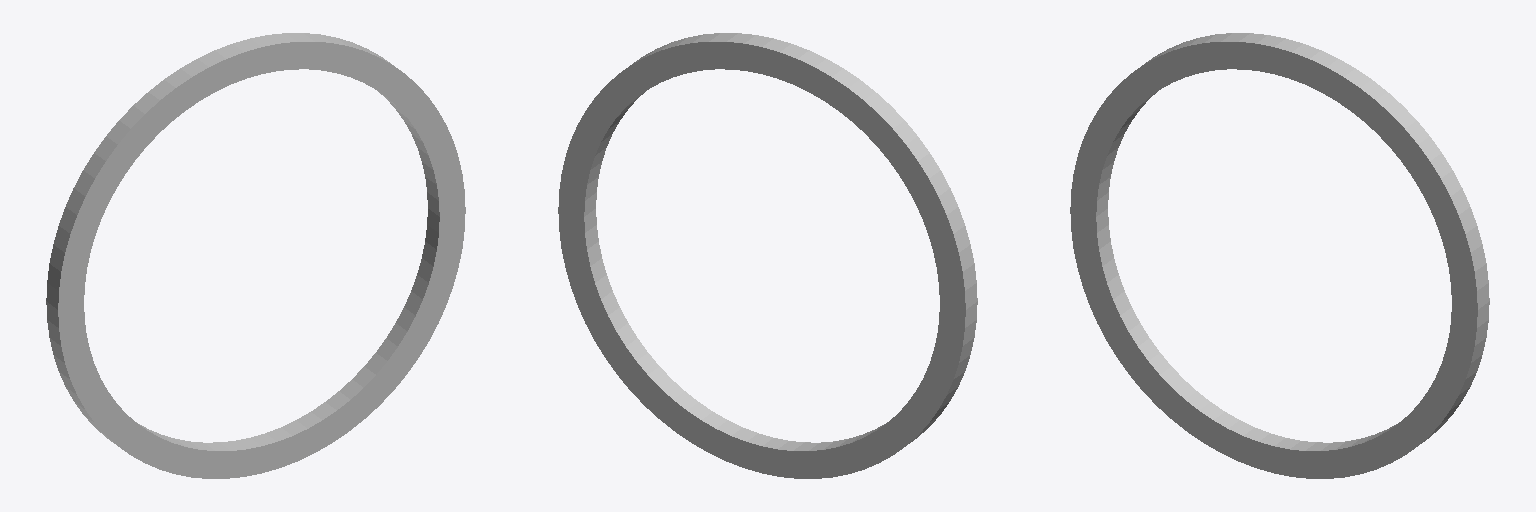
File: OuterPixels_NegativeEndcap_Ring2_passives_l23.obj
3 renders of one model, left to right at view 1: azimuth 30°, elevation 25°; view 2: azimuth 150°, elevation 25°; view 3: azimuth 330°, elevation 25°, orthographic.
Bounding box in the file's own units: 636 × 636 × 32.04.